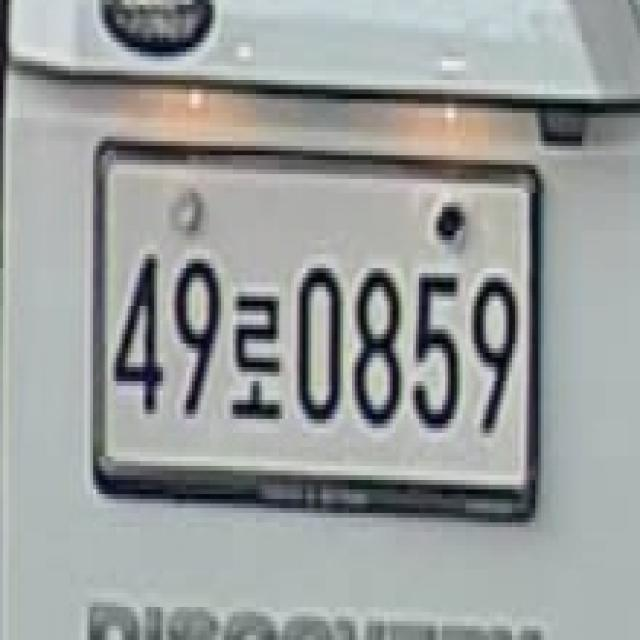0: (289, 254, 348, 424)
4: (104, 244, 168, 428)
5: (411, 260, 463, 434)
8: (352, 258, 404, 435)
9: (468, 266, 524, 439), (172, 248, 225, 430)
license_plate: (77, 118, 550, 550)
lo: (228, 280, 286, 432)
